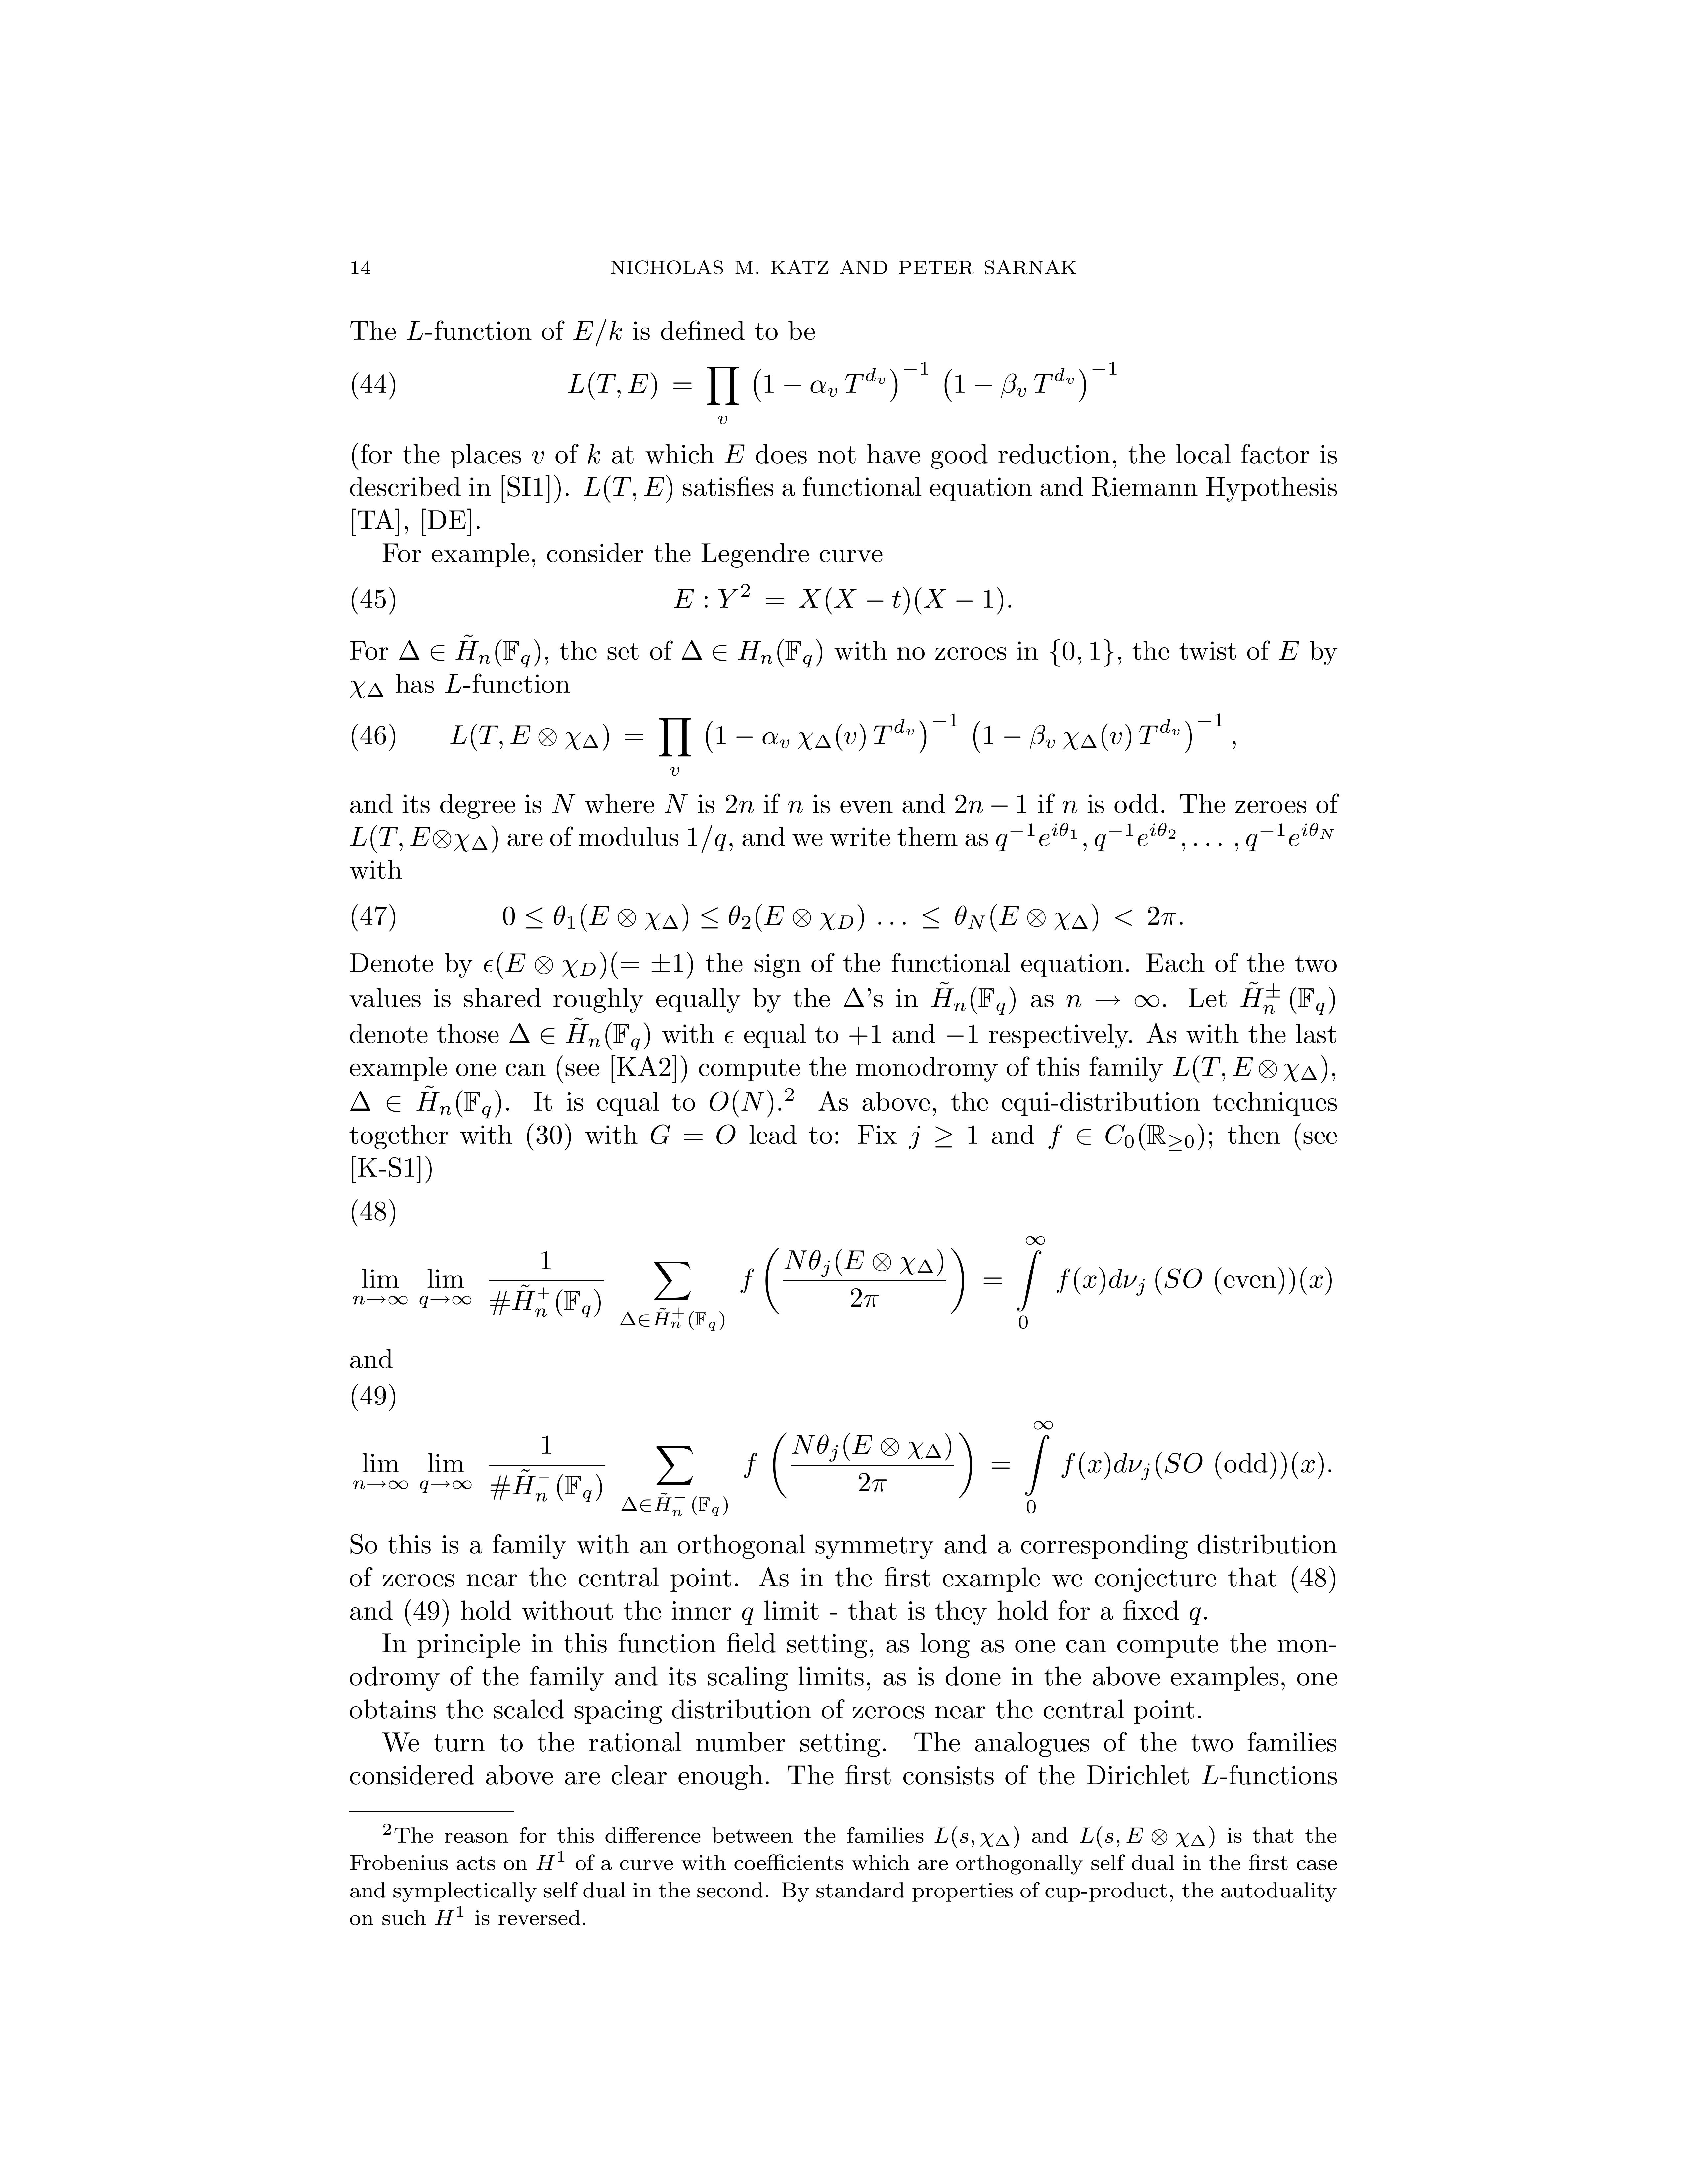maths: (353, 1420, 1201, 1516), (353, 1236, 1201, 1330), (450, 713, 1223, 775), (569, 362, 1116, 424), (503, 904, 1177, 931), (673, 583, 1003, 615), (484, 952, 693, 979), (351, 1085, 501, 1119), (399, 635, 540, 667), (509, 1018, 650, 1049), (1173, 1055, 1327, 1083), (1049, 1124, 1203, 1151), (349, 826, 498, 853), (682, 640, 822, 667), (1240, 982, 1334, 1014), (1079, 1826, 1214, 1847), (930, 982, 1015, 1014), (996, 823, 1086, 851), (1095, 823, 1186, 851), (583, 475, 672, 503), (1246, 823, 1333, 851), (709, 1088, 794, 1117), (934, 1826, 1019, 1847), (1049, 640, 1113, 667), (650, 1124, 735, 1143), (909, 1126, 976, 1149), (955, 794, 1026, 814), (572, 319, 622, 346), (1067, 994, 1159, 1007), (1288, 1268, 1331, 1294), (1281, 1452, 1324, 1478), (688, 826, 727, 853), (849, 1025, 881, 1044), (349, 681, 383, 698), (946, 1025, 978, 1042), (434, 1906, 463, 1925), (727, 794, 753, 814), (537, 1851, 564, 1870), (665, 794, 688, 812), (844, 987, 863, 1007), (553, 794, 574, 812), (725, 445, 744, 463), (1279, 642, 1299, 659), (406, 321, 424, 339), (1194, 844, 1239, 851), (445, 674, 461, 693), (588, 443, 601, 463), (789, 801, 803, 814), (1063, 801, 1077, 814), (742, 1608, 753, 1624), (1189, 1608, 1200, 1624), (532, 450, 544, 463), (725, 1032, 734, 1042)
